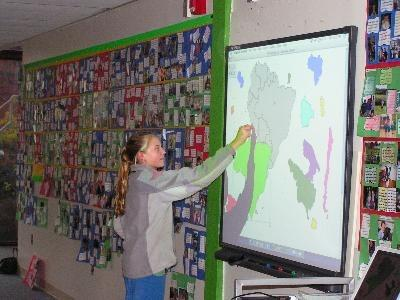person: (120, 125, 251, 300)
